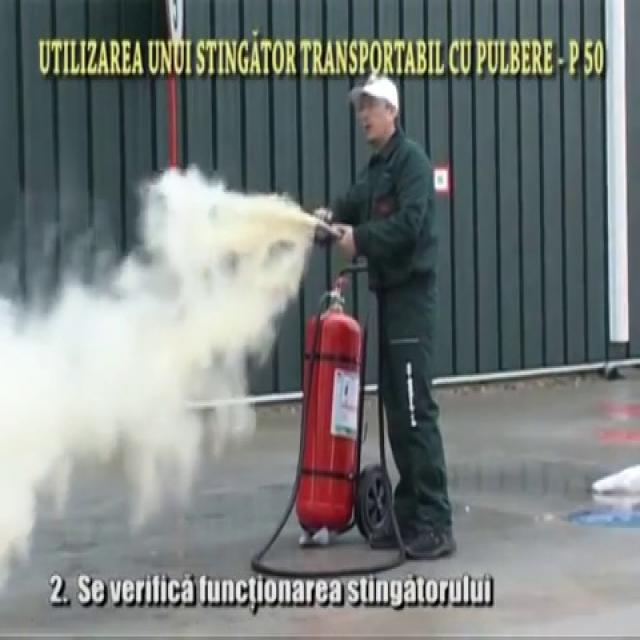Smoke: (0, 162, 321, 626)
